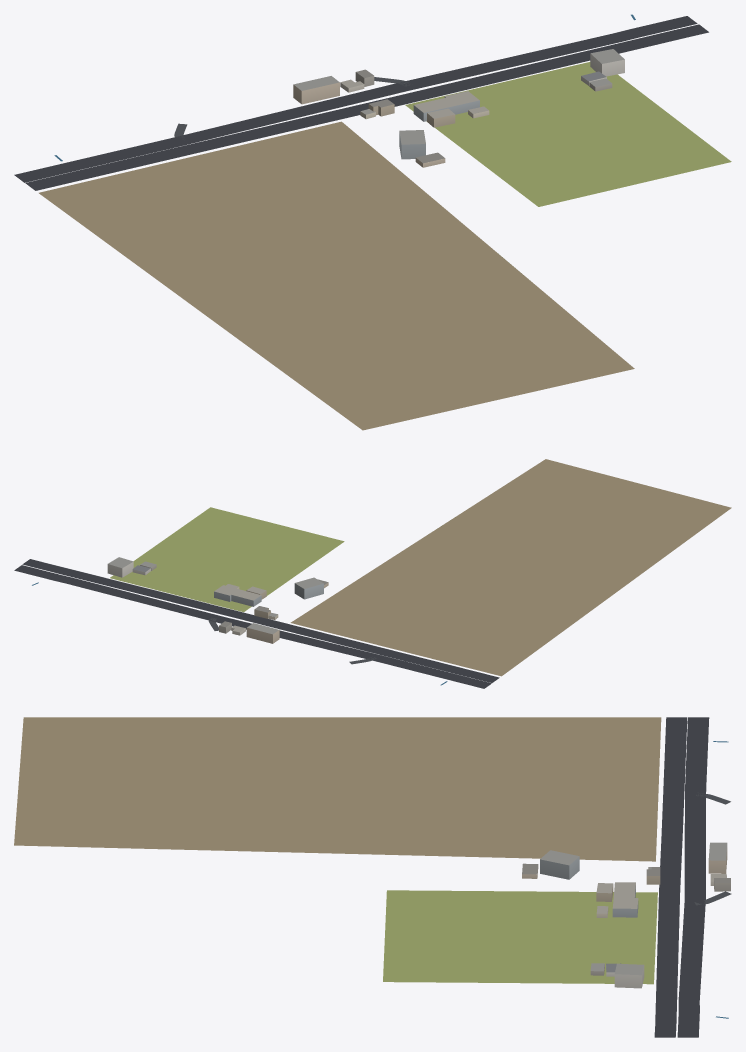
3 views of the same model, one above another, from view 1: azimuth 30°, elevation 25°; view 2: azimuth 150°, elevation 25°; view 3: azimuth 270°, elevation 25° (orthographic). The views are drawn at different scales.
Parts seen in each view (by area): view 1: landuse, roads, buildings_walls, buildings_roofs; view 2: landuse, roads, buildings_walls, buildings_roofs; view 3: landuse, roads, buildings_roofs, buildings_walls.
Part boxes in pixels (x1,y1,x2,y2): landuse: [39, 62, 731, 430]; roads: [14, 16, 708, 190]; buildings_walls: [293, 53, 624, 167]; buildings_roofs: [293, 49, 624, 163]; landuse: [110, 459, 731, 676]; roads: [14, 559, 499, 688]; buildings_walls: [107, 562, 328, 643]; buildings_roofs: [108, 557, 328, 634]; landuse: [14, 717, 661, 984]; roads: [654, 717, 731, 1037]; buildings_roofs: [522, 842, 730, 975]; buildings_walls: [522, 847, 730, 988].
Bounding box in the file's own units: 500 × 10.5 × 474.
